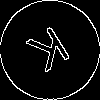K: (25, 25, 78, 82)
